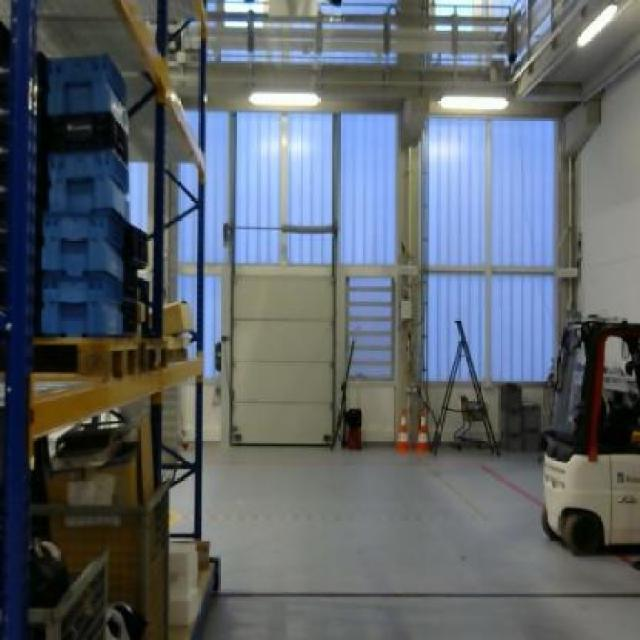box: (163, 298, 192, 337)
